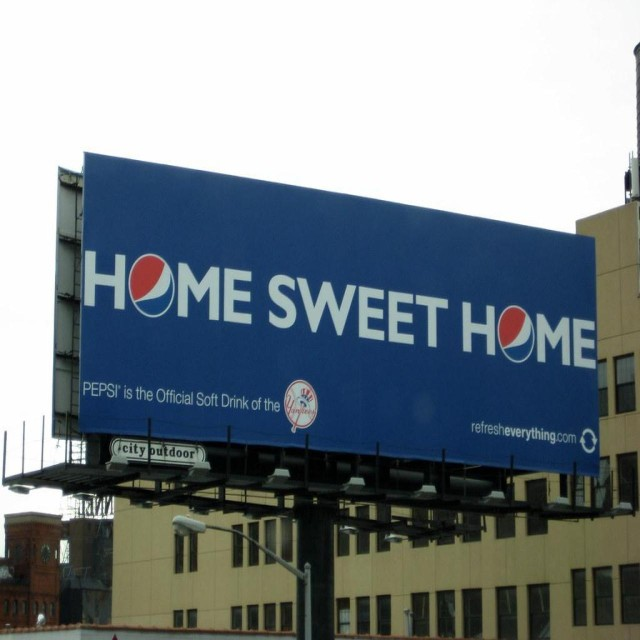pepsi: (126, 253, 174, 319), (499, 306, 536, 362)
